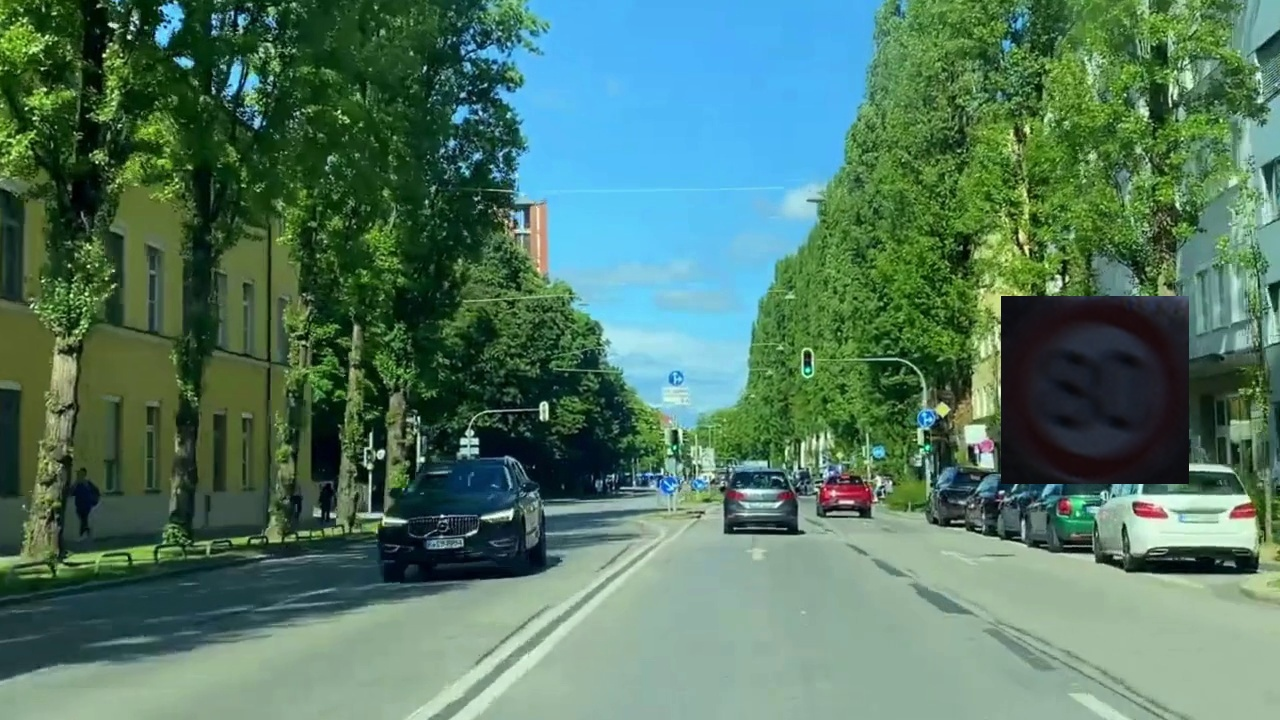Speed 80: (1001, 296, 1189, 484)
